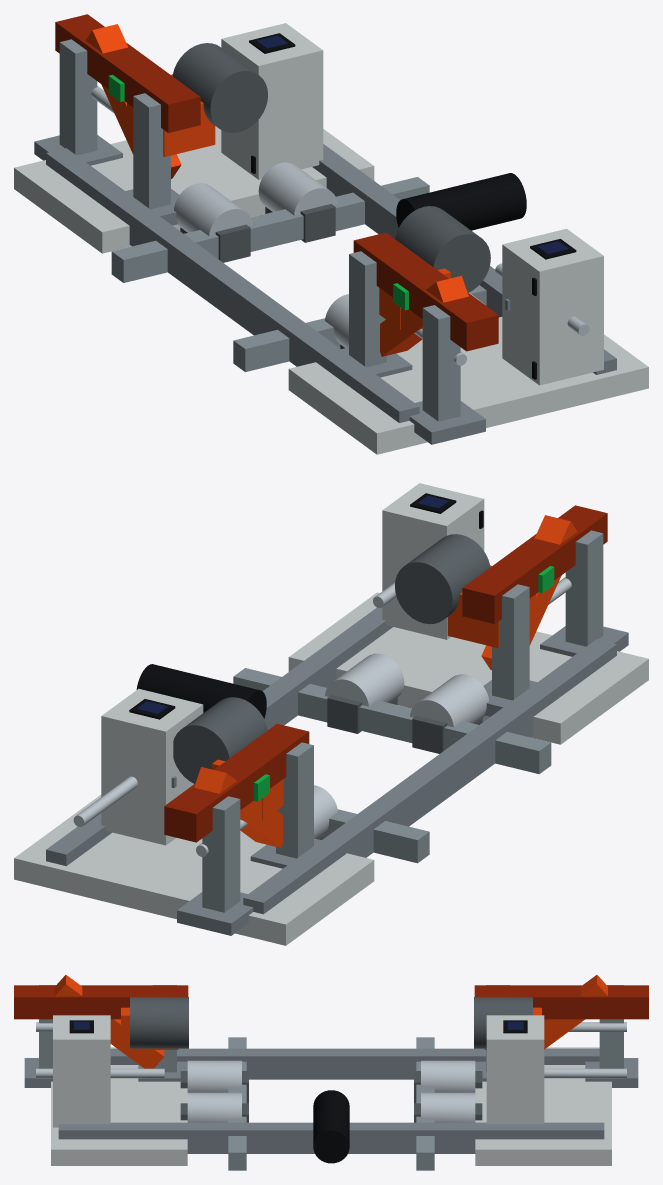
File: greasing_station.dae
3 renders of one model, top to bottom at view 1: azimuth 30°, elevation 25°; view 2: azimuth 150°, elevation 25°; view 3: azimuth 270°, elevation 25°, orthographic. The views are drawn at different scales.
Visible parts, largest first — view 1: greasing_station; view 2: greasing_station; view 3: greasing_station.
Boxes of the visible parts, box(x1,y1,x2,y2) form: greasing_station: box(14, 14, 648, 454); greasing_station: box(14, 483, 648, 945); greasing_station: box(14, 975, 648, 1170).
Size of the model in its own units: 1.98 by 4.19 by 0.84.
